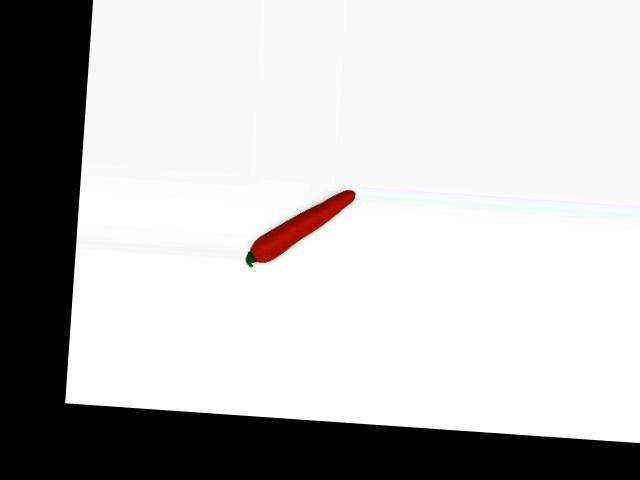carrot: (249, 178, 357, 272)
